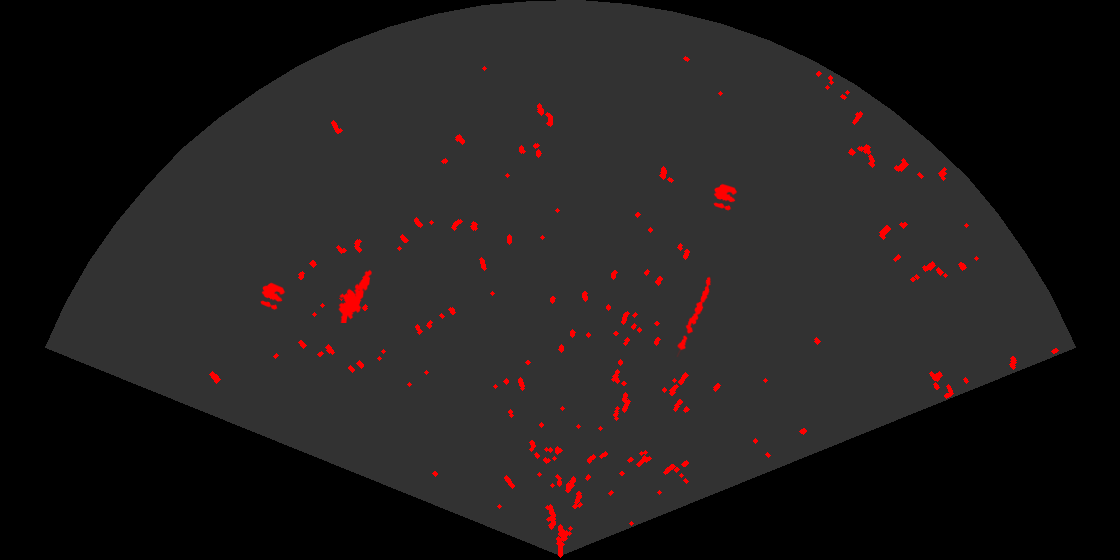ball: (259, 281, 287, 311), (712, 182, 739, 212)
chain: (675, 275, 713, 357)
frogman: (337, 268, 373, 323)
